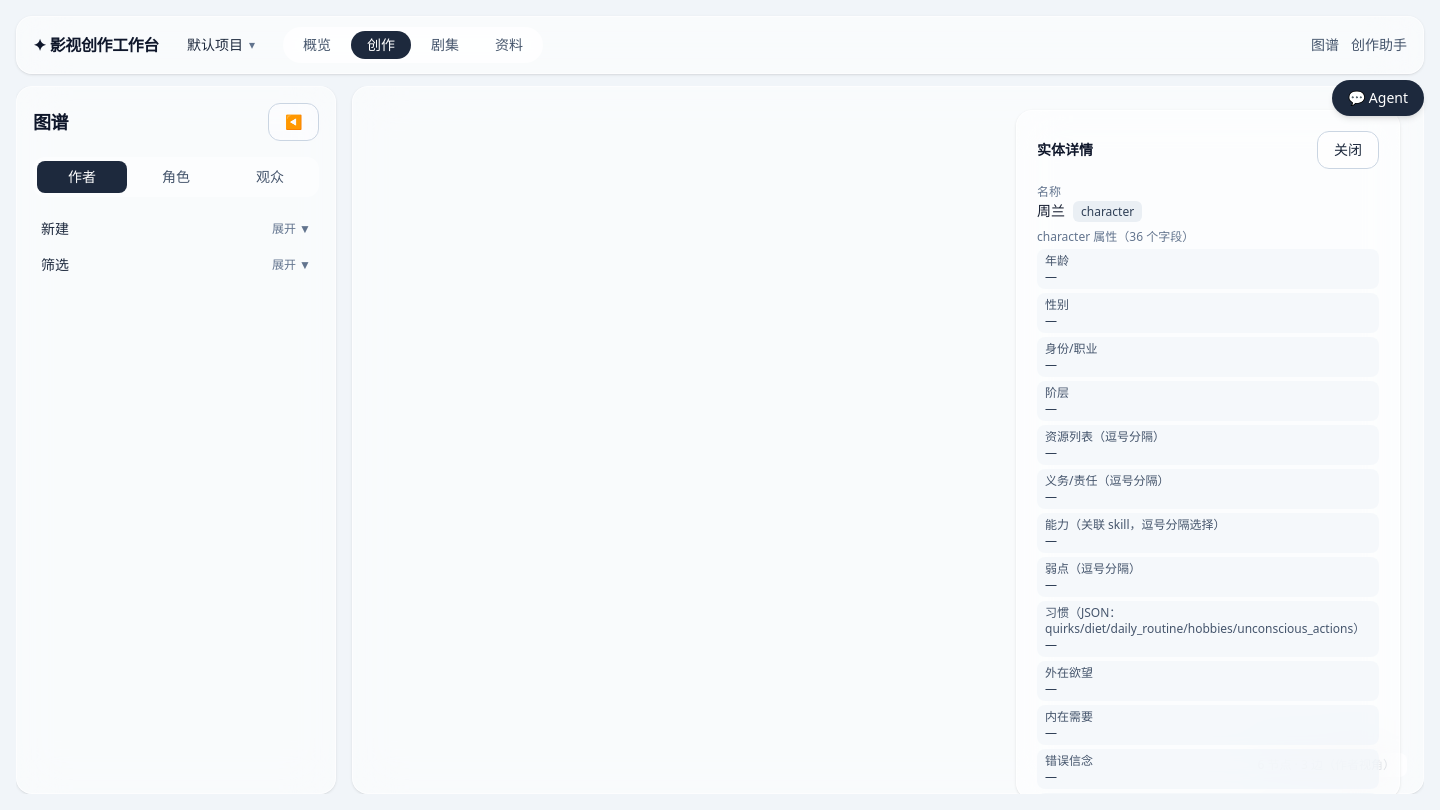
Test: Workbench 集成（I1–I8） › I2: 节点点击 → 拉取详情 → 面板展示名称与类型
Check: the text with test id "graph-stats" shows "6 节点 · 3 边", box 1246,753 -> 1407,777
Check: the element with test id "entity-panel" shows "周兰", box 1037,201 -> 1065,220
# 面板不再需要时保持可关闭
Click the button with aria-label "关闭面板": (1348, 150) 1317,131 -> 1379,169
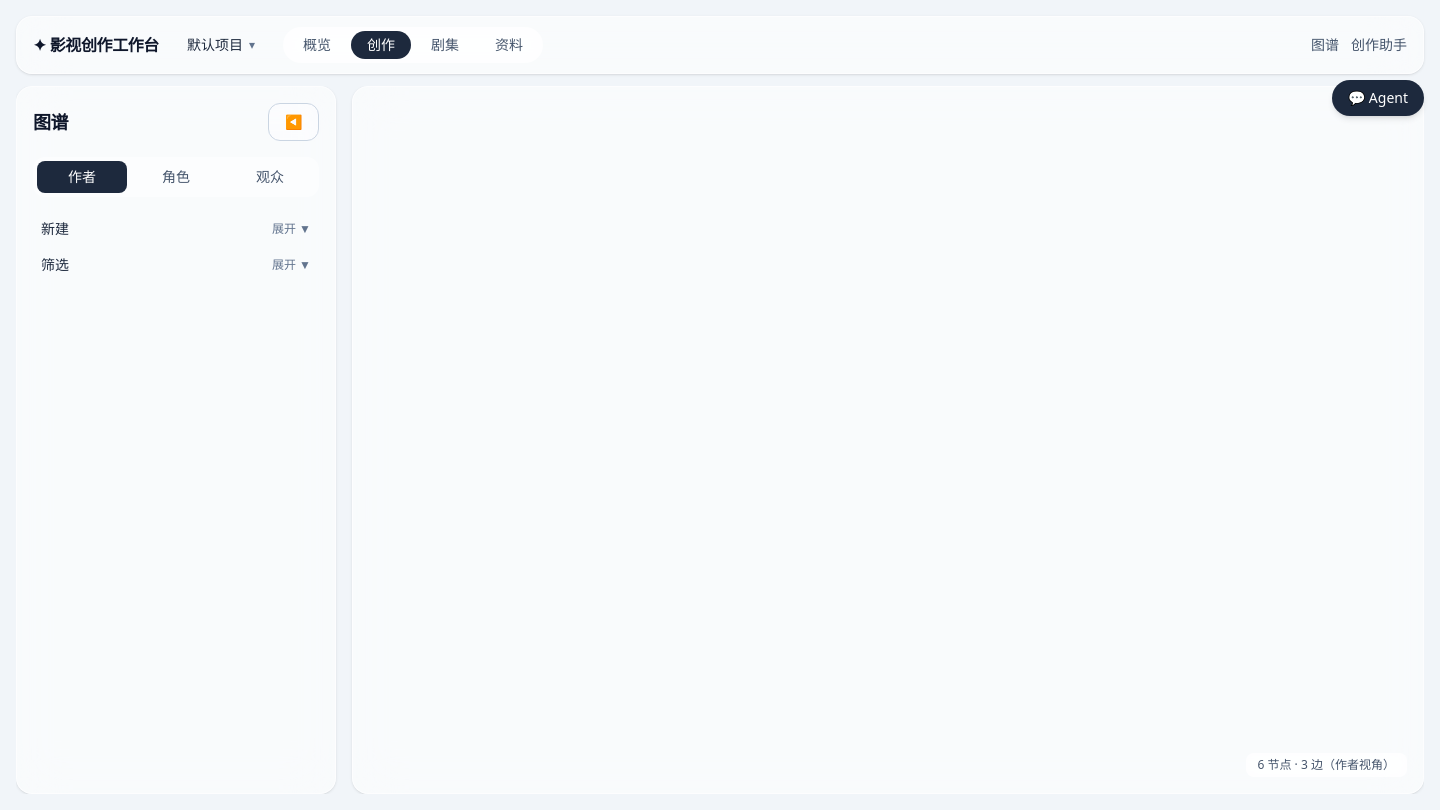
Check: the element with test id "entity-panel" is gone
